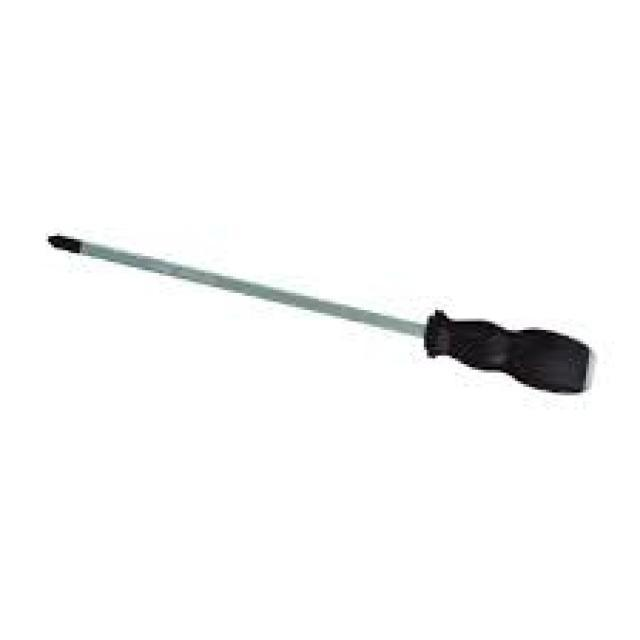screwdriver: (37, 232, 606, 397)
